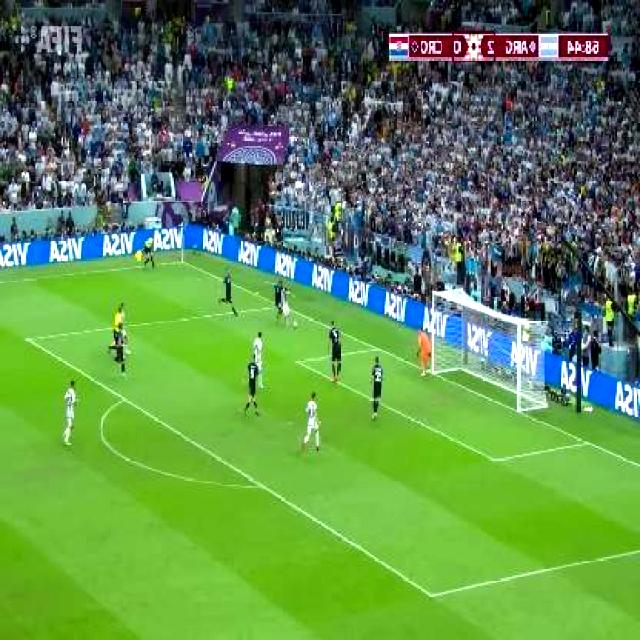bigarea_bottom_inner: (422, 580, 443, 608)
bigarea_top_inner: (21, 328, 37, 349)
bigarea_top_outter: (280, 300, 294, 315)
bottom_arc_area_intersection: (254, 472, 272, 497)
corner: (174, 255, 191, 268)
smallarea_bottom_inner: (485, 445, 506, 472)
smallarea_bottom_outter: (578, 431, 597, 451)
smallarea_top_inner: (292, 351, 306, 369)
smallarea_top_outter: (369, 338, 385, 356)
top_arc_area_intersection: (117, 388, 132, 406)
